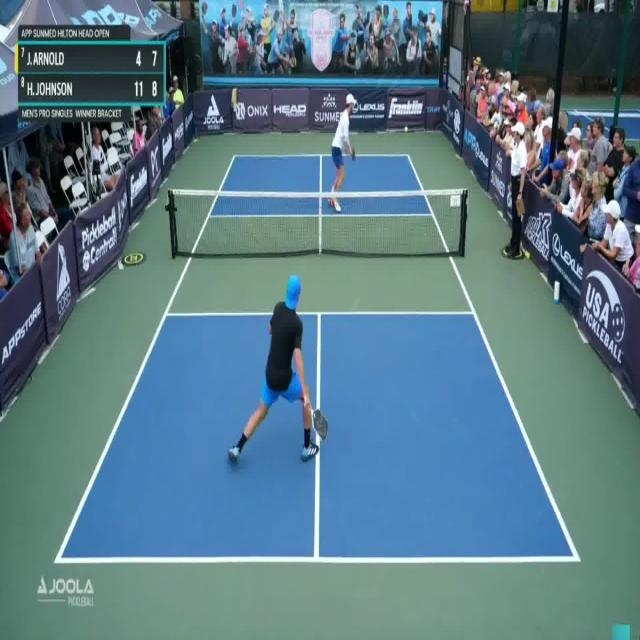Court: (52, 154, 583, 567)
ball: (401, 123, 413, 136)
